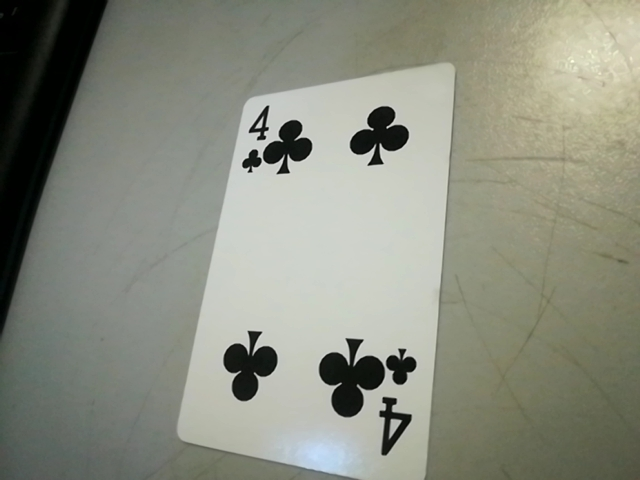mh 4: (373, 340, 428, 467), (230, 101, 274, 176)
